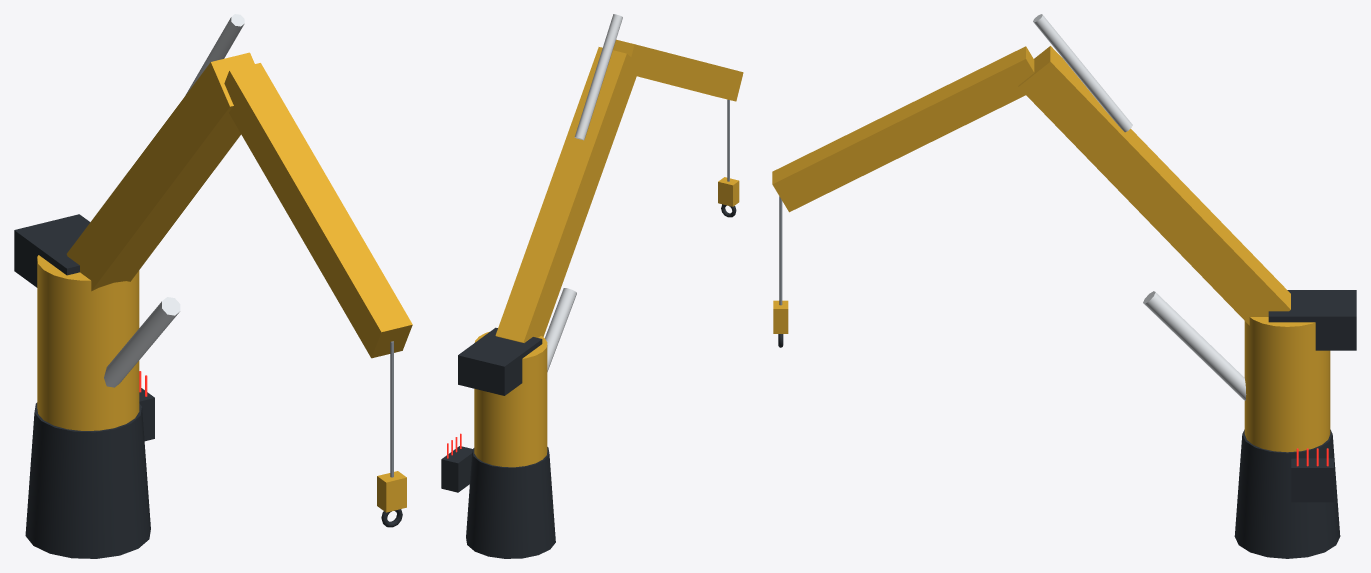
Rendered from fleet--deckCrane.glb.
The picture shows the model from 3 angles, left to right: view 1: azimuth 30°, elevation 25°; view 2: azimuth 150°, elevation 25°; view 3: azimuth 270°, elevation 25°; orthographic projection. The views are drawn at different scales.
Parts seen in each view (by area): view 1: slew, mainBoom, jib, deckCrane:shell, hook, controls; view 2: mainBoom, slew, deckCrane:shell, jib, controls, hook; view 3: mainBoom, slew, jib, deckCrane:shell, controls, hook.
Boxes of the visible parts, x1=… form: slew: x1=14, y1=214, x2=180, y2=430; mainBoom: x1=66, y1=14, x2=254, y2=291; jib: x1=224, y1=63, x2=412, y2=358; deckCrane:shell: x1=25, y1=402, x2=150, y2=558; hook: x1=377, y1=341, x2=406, y2=527; controls: x1=139, y1=371, x2=154, y2=441; mainBoom: x1=495, y1=14, x2=640, y2=342; slew: x1=458, y1=288, x2=576, y2=467; deckCrane:shell: x1=466, y1=447, x2=555, y2=558; jib: x1=613, y1=39, x2=743, y2=101; controls: x1=441, y1=433, x2=472, y2=492; hook: x1=718, y1=99, x2=739, y2=217; mainBoom: x1=1018, y1=14, x2=1290, y2=325; slew: x1=1143, y1=290, x2=1356, y2=452; jib: x1=772, y1=46, x2=1034, y2=212; deckCrane:shell: x1=1234, y1=429, x2=1340, y2=558; controls: x1=1291, y1=448, x2=1333, y2=502; hook: x1=773, y1=196, x2=788, y2=347.
Bounding box in the file's own units: 0.95 × 4.58 × 4.65.
